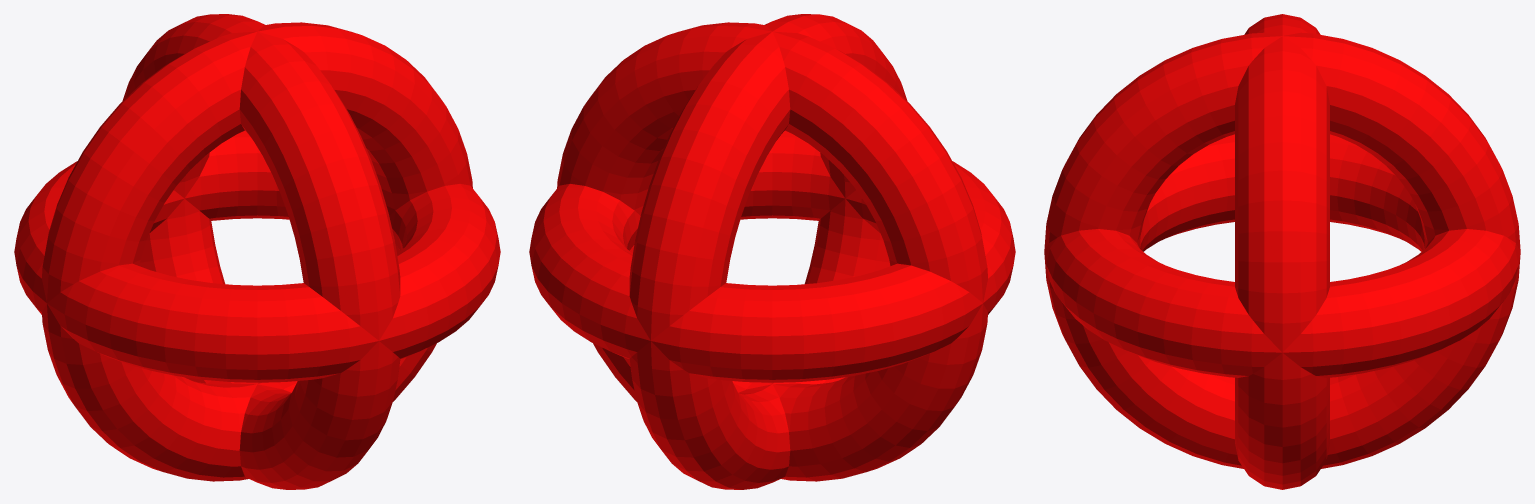
The model's file is CircleModel.obj.
The picture shows the model from 3 angles, left to right: view 1: azimuth 30°, elevation 25°; view 2: azimuth 150°, elevation 25°; view 3: azimuth 270°, elevation 25°; orthographic projection. The views are drawn at different scales.
Visible parts, largest first — view 1: Torus.001; view 2: Torus.001; view 3: Torus.001.
Boxes of the visible parts, left/top/right/bottom form: Torus.001: left=14, top=14, right=500, bottom=489; Torus.001: left=529, top=14, right=1015, bottom=489; Torus.001: left=1044, top=14, right=1520, bottom=489.
Bounding box in the file's own units: 2 × 2 × 2.
1 material, 1 textured.
